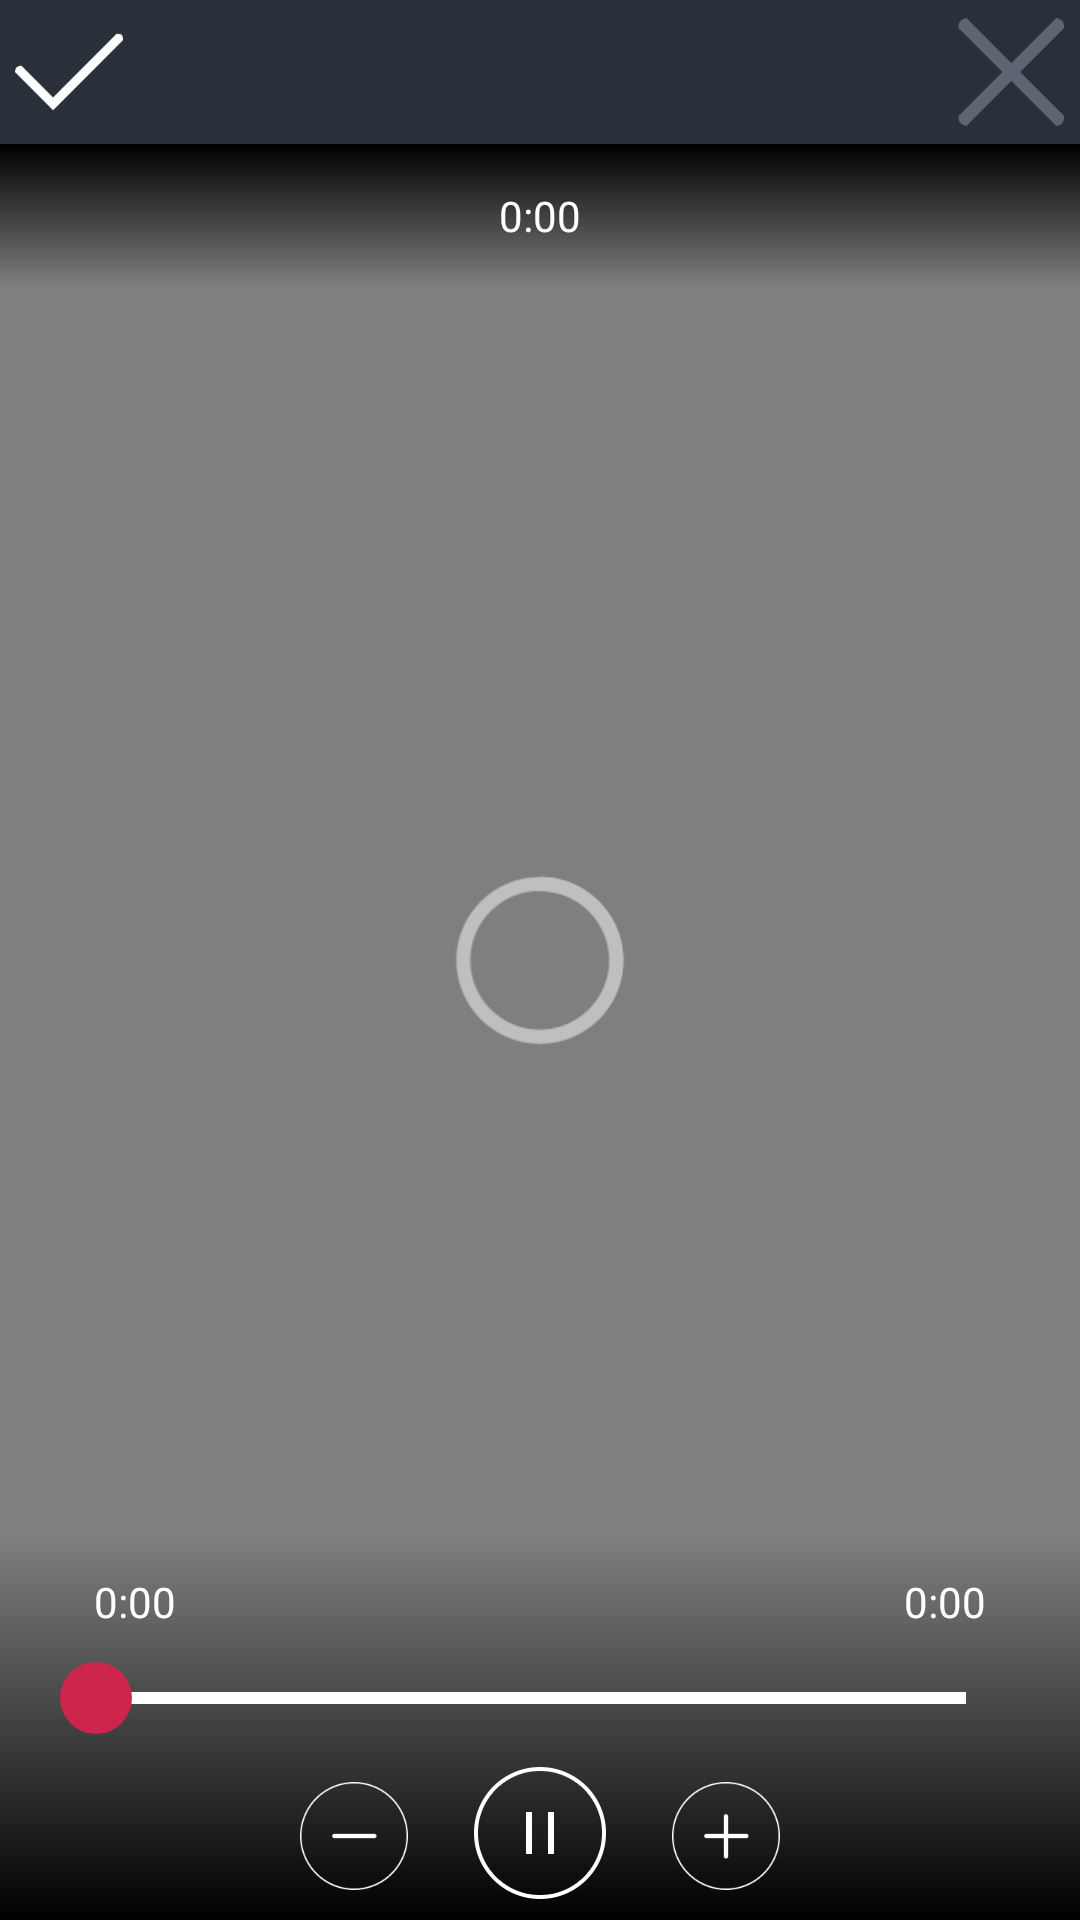

Icons on this 1080×1920 Android screen, each with the point to tap as (x,y):
cancel: (1011,72)
check: (69,71)
minus: (354,1836)
pause: (540,1833)
plus: (726,1836)
